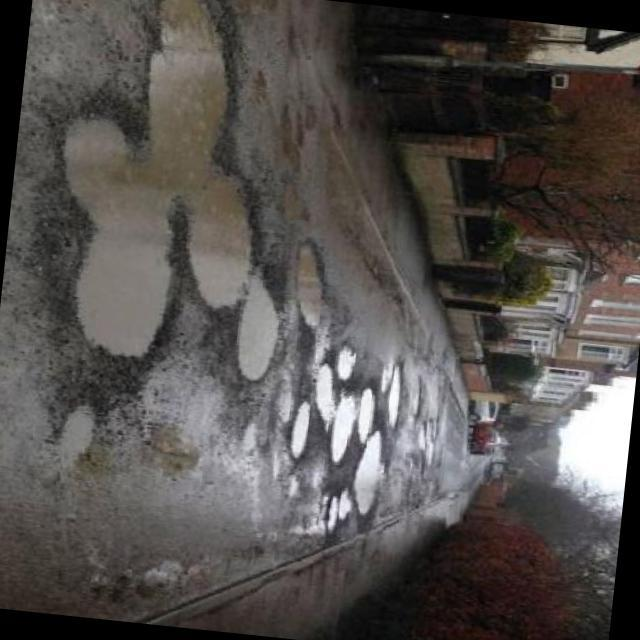pothole: (25, 0, 272, 366), (38, 389, 128, 493), (228, 272, 284, 386), (288, 230, 344, 330), (347, 428, 396, 526), (319, 391, 364, 468), (278, 394, 320, 462), (310, 352, 348, 423), (325, 333, 369, 392), (382, 352, 412, 434), (326, 484, 358, 535), (356, 384, 379, 444), (272, 387, 298, 422)
